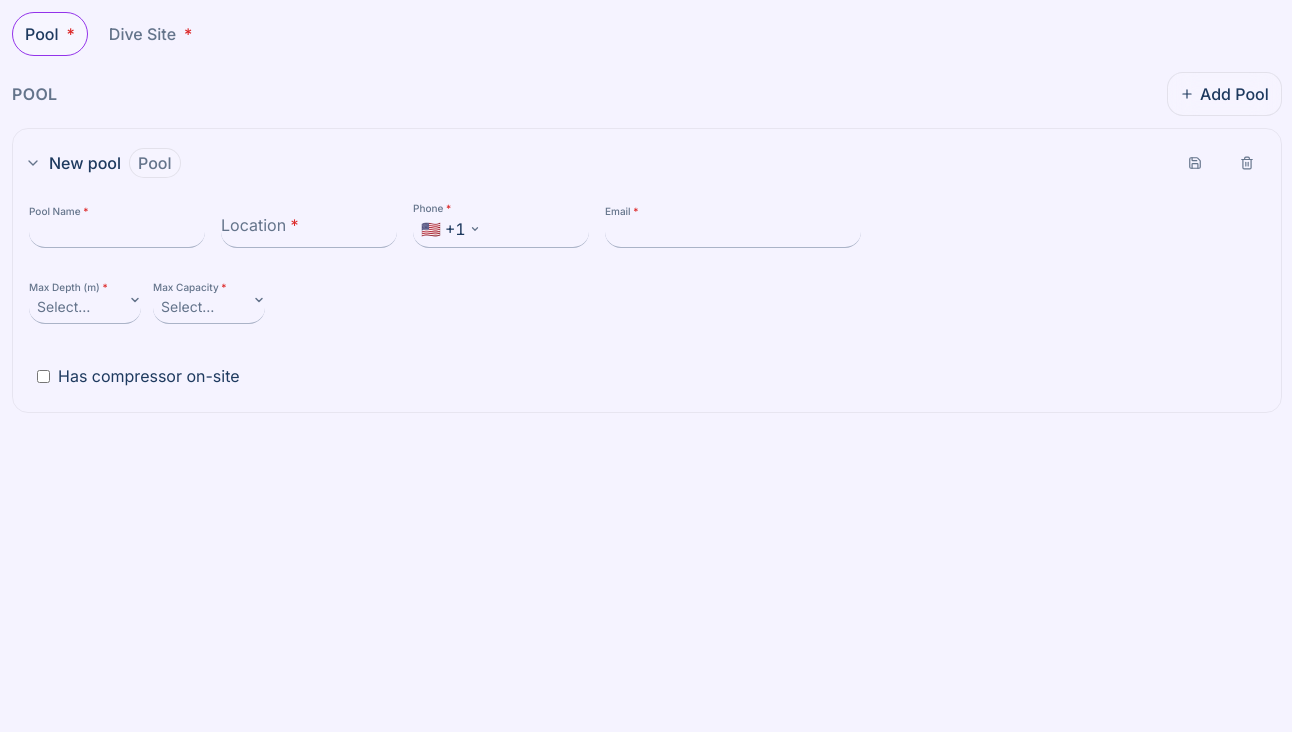
Scenario: VenueCapabilitiesSection — Dive Site sub-tab is selectable › switching back from Dive Site to Pool restores the pool draft
The width and height of the screenshot is (1292, 732).
Click the tab "Dive Site *". click: [151, 34]
box: [96, 12, 205, 56]
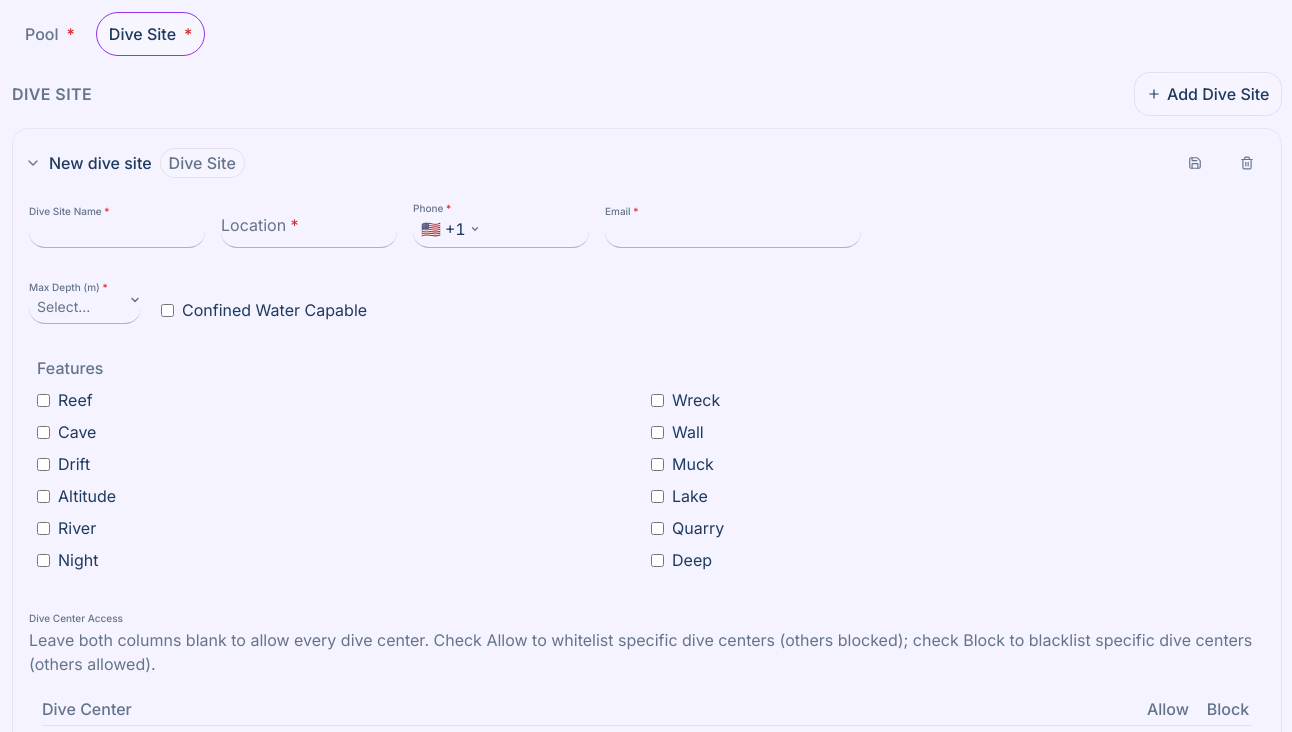
Expected: the field labelled "Dive Site Name *" is shown, [29, 204, 205, 248]
Click the tab "Pool *". click: [50, 34]
box: [12, 12, 88, 56]
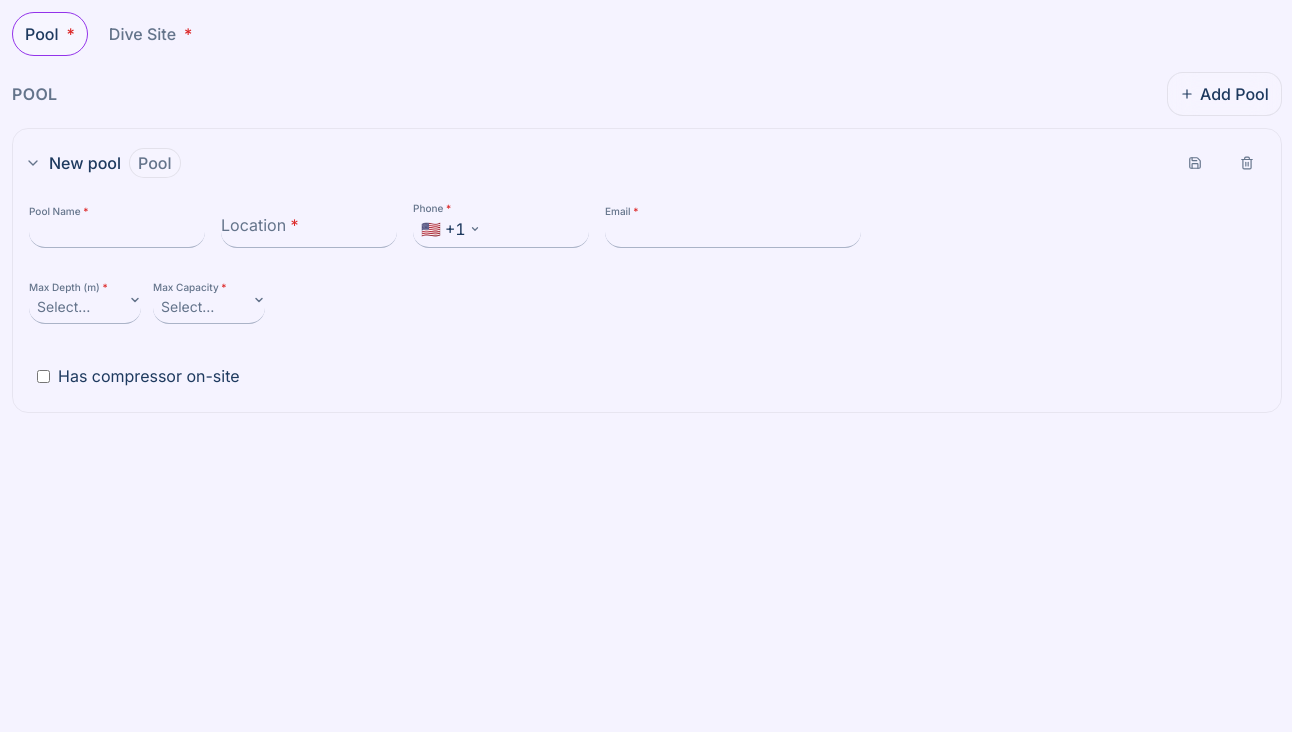
Expected: the field labelled "Pool Name *" is shown, [29, 204, 205, 248]
Expected: the label labelled "Dive Site Name" is gone
